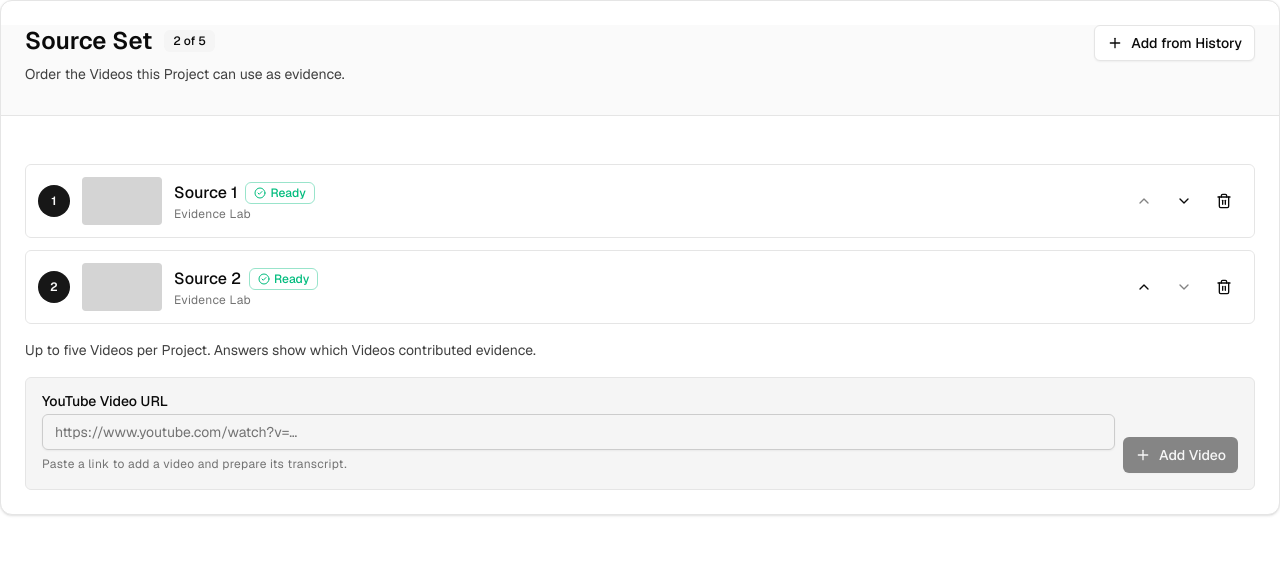
Test: ProjectSourceSet › submits the complete order with a revision precondition
Click the button named "Move Source 2 up" at point(1144, 287), box [1126,269,1162,305]
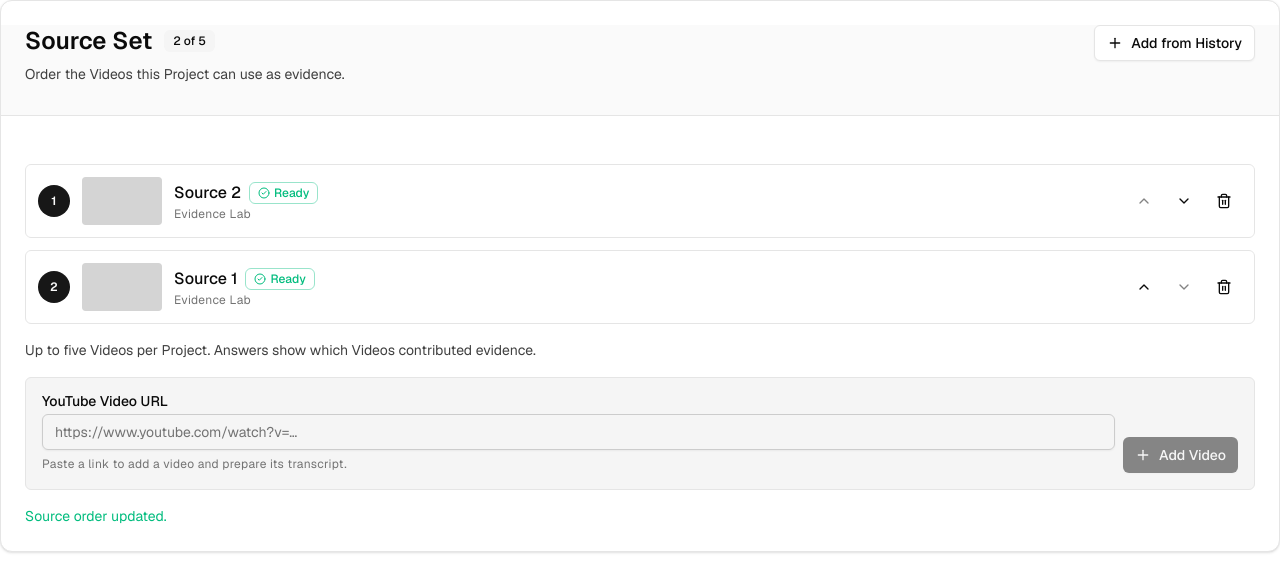
Expected: the text "Source order updated." is shown, [25,507,167,525]
